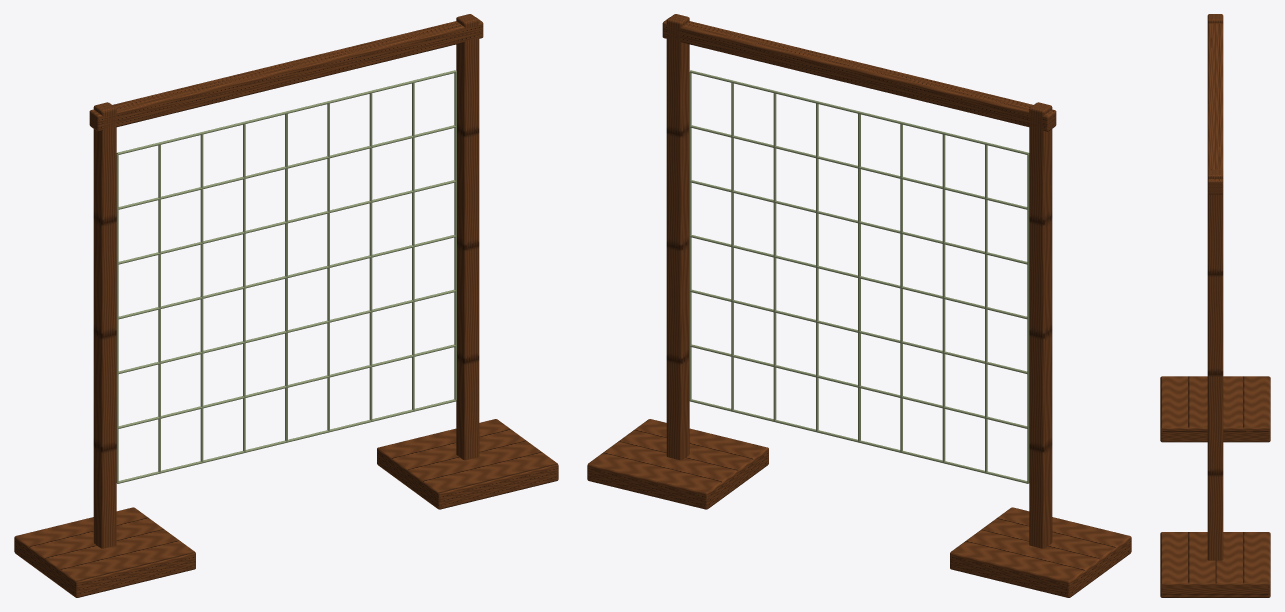
Rendered from flooded-and-coastal-survival-net-mending-frame-02c50701__20075.glb.
3 renders of one model, left to right at view 1: azimuth 30°, elevation 25°; view 2: azimuth 150°, elevation 25°; view 3: azimuth 270°, elevation 25°, orthographic. The views are drawn at different scales.
Parts seen in each view (by area): view 1: net-mending-frame; view 2: net-mending-frame; view 3: net-mending-frame.
Part boxes in pixels (x1=…): net-mending-frame: x1=14, y1=14, x2=558, y2=597; net-mending-frame: x1=587, y1=14, x2=1131, y2=597; net-mending-frame: x1=1160, y1=14, x2=1270, y2=597.
Size of the model in its own units: 2 by 1.8 by 0.45.
Materials: 2 (1 with a texture image).
